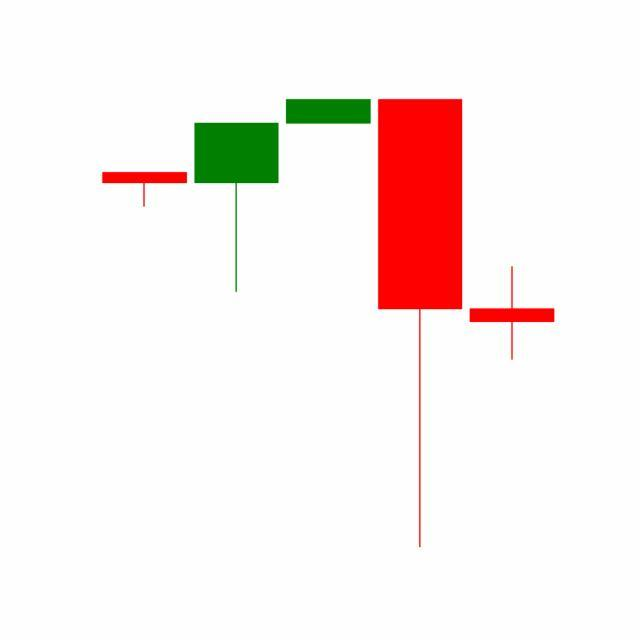Spinning Top: (466, 265, 559, 363)
